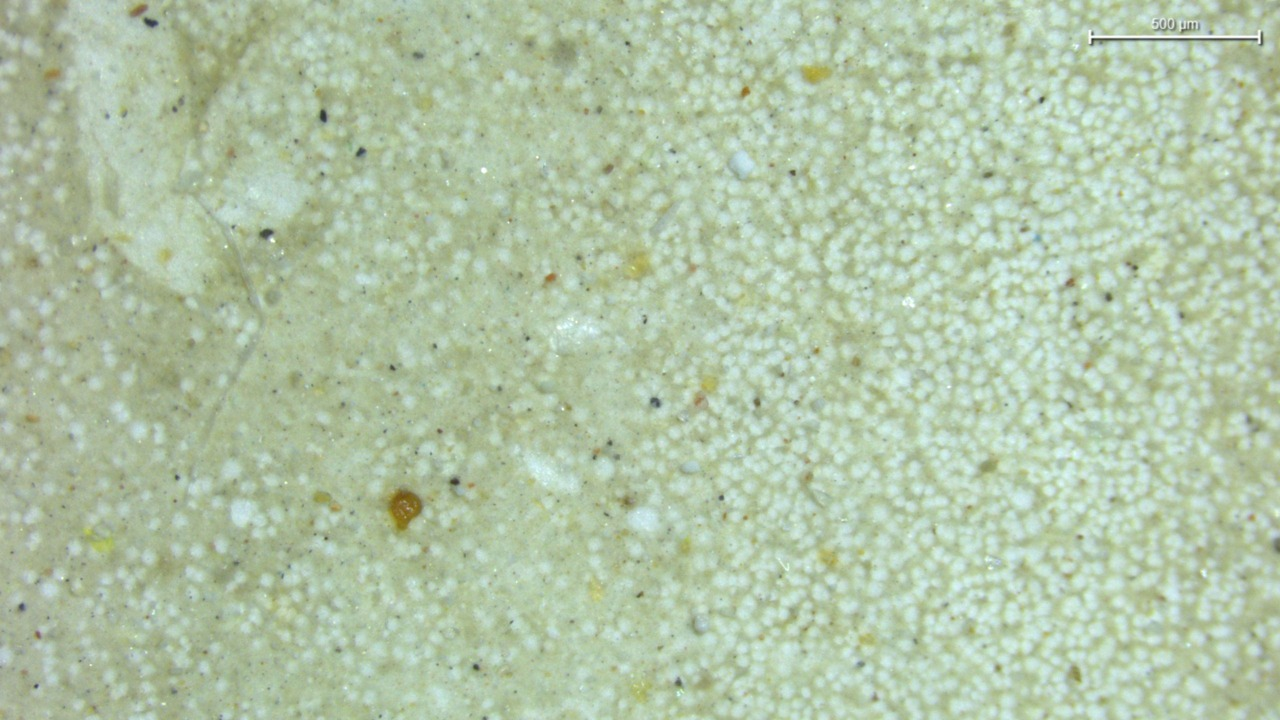microplastic_fragment: (728, 150, 756, 179), (692, 613, 711, 634), (681, 461, 700, 473)
